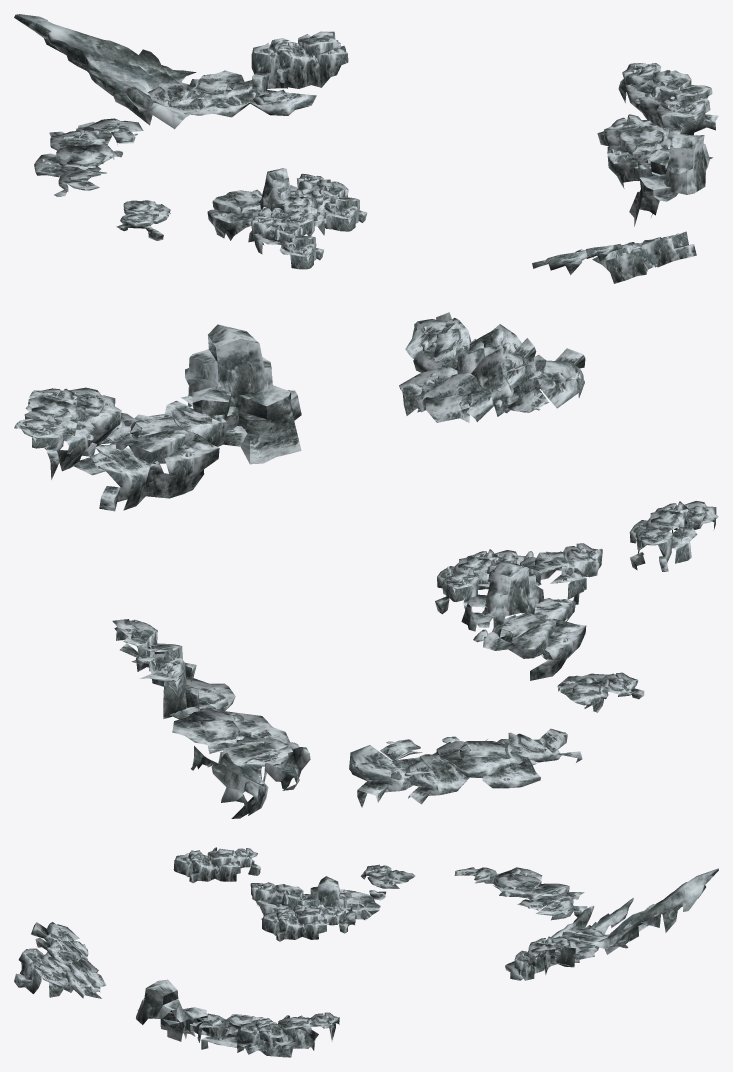
File: S_Rock_White046_7.FBX
3 renders of one model, top to bottom at view 1: azimuth 30°, elevation 25°; view 2: azimuth 150°, elevation 25°; view 3: azimuth 270°, elevation 25°, orthographic. The views are drawn at different scales.
Visible parts, largest first — view 1: S_Rock_White046_025, S_Rock_White046_018, S_Rock_White046_026, S_Rock_White046_027, S_Rock_White046_024, S_Rock_White046_016, S_Rock_White046_017, S_Rock_White046_015, S_Rock_White046_013, S_Rock_White046_019, S_Rock_White046_022, S_Rock_White046_020 (+3 smaller); view 2: S_Rock_White046_017, S_Rock_White046_024, S_Rock_White046_016, S_Rock_White046_014, S_Rock_White046_026, S_Rock_White046_018, S_Rock_White046_022, S_Rock_White046_015, S_Rock_White046_027, S_Rock_White046_013, S_Rock_White046_025, S_Rock_White046_021 (+3 smaller); view 3: S_Rock_White046_025, S_Rock_White046_024, S_Rock_White046_018, S_Rock_White046_014, S_Rock_White046_016, S_Rock_White046_013, S_Rock_White046_019, S_Rock_White046_017, S_Rock_White046_015, S_Rock_White046_027, S_Rock_White046_020, S_Rock_White046_026 (+3 smaller).
Boxes of the visible parts, x1,y1,x2,y2 form: S_Rock_White046_025: (14, 14, 196, 129); S_Rock_White046_018: (618, 63, 718, 139); S_Rock_White046_026: (147, 70, 316, 117); S_Rock_White046_027: (251, 31, 348, 93); S_Rock_White046_024: (34, 118, 143, 196); S_Rock_White046_016: (629, 134, 712, 226); S_Rock_White046_017: (597, 114, 671, 188); S_Rock_White046_015: (592, 231, 696, 283); S_Rock_White046_013: (248, 216, 323, 269); S_Rock_White046_019: (297, 173, 367, 231); S_Rock_White046_022: (207, 189, 271, 240); S_Rock_White046_020: (271, 188, 330, 236); S_Rock_White046_017: (67, 396, 247, 511); S_Rock_White046_024: (349, 728, 582, 807); S_Rock_White046_016: (185, 324, 301, 464); S_Rock_White046_014: (399, 338, 585, 422); S_Rock_White046_026: (169, 677, 292, 778); S_Rock_White046_018: (14, 387, 137, 479); S_Rock_White046_022: (473, 598, 586, 680); S_Rock_White046_015: (405, 312, 521, 373); S_Rock_White046_027: (112, 619, 199, 718); S_Rock_White046_013: (629, 501, 718, 571); S_Rock_White046_025: (191, 742, 310, 818); S_Rock_White046_021: (461, 562, 544, 650); S_Rock_White046_025: (550, 868, 718, 954); S_Rock_White046_024: (454, 867, 587, 920); S_Rock_White046_018: (236, 1012, 339, 1054); S_Rock_White046_014: (31, 922, 106, 998); S_Rock_White046_016: (136, 979, 209, 1041); S_Rock_White046_013: (173, 847, 260, 883); S_Rock_White046_019: (261, 905, 348, 941); S_Rock_White046_017: (184, 1013, 315, 1057); S_Rock_White046_015: (14, 948, 73, 997); S_Rock_White046_027: (514, 936, 578, 980); S_Rock_White046_020: (250, 882, 324, 915); S_Rock_White046_026: (505, 928, 609, 980).
Bounding box in the file's own units: 6146 × 8138 × 1119.
